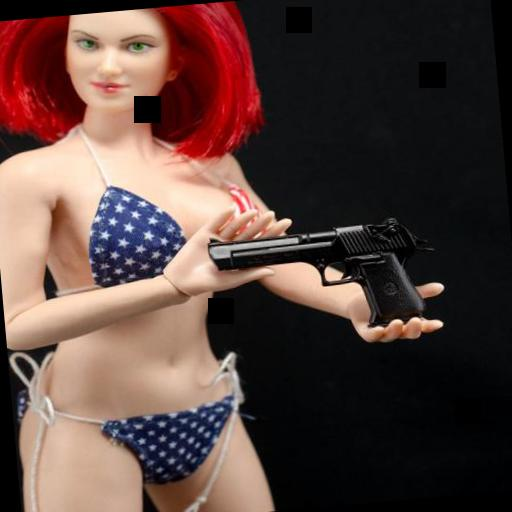Handgun: (200, 208, 428, 342)
